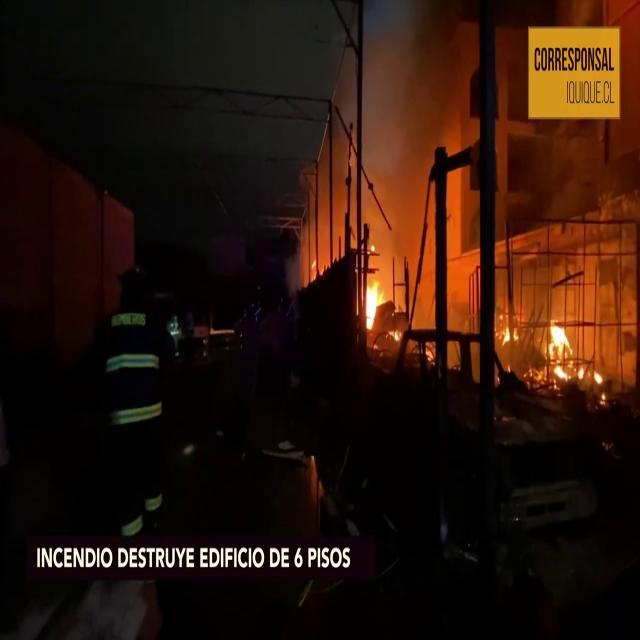Fire: (540, 308, 584, 384), (362, 252, 388, 338)
Smoke: (306, 1, 485, 283)
